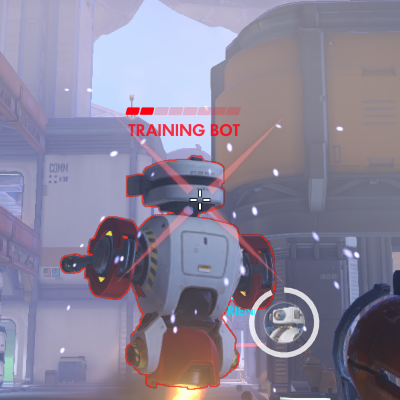hpbar: (125, 106, 241, 116)
